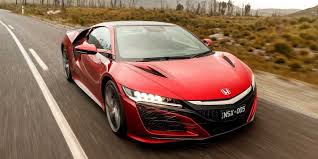Honda: (58, 18, 260, 148)
